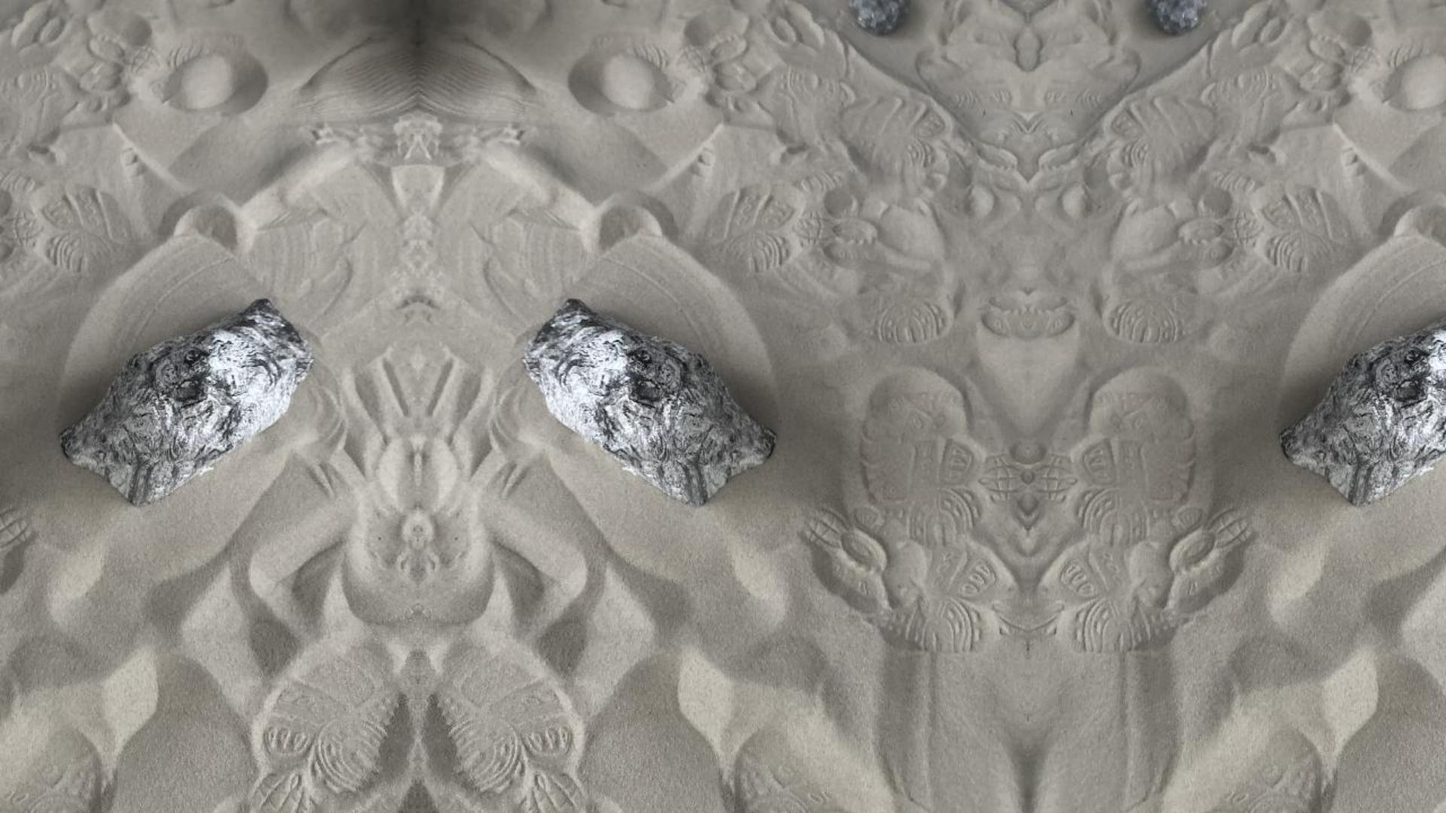rock: (60, 298, 313, 505), (523, 298, 775, 505), (1280, 320, 1445, 505), (848, 0, 907, 35), (1147, 0, 1207, 34)
